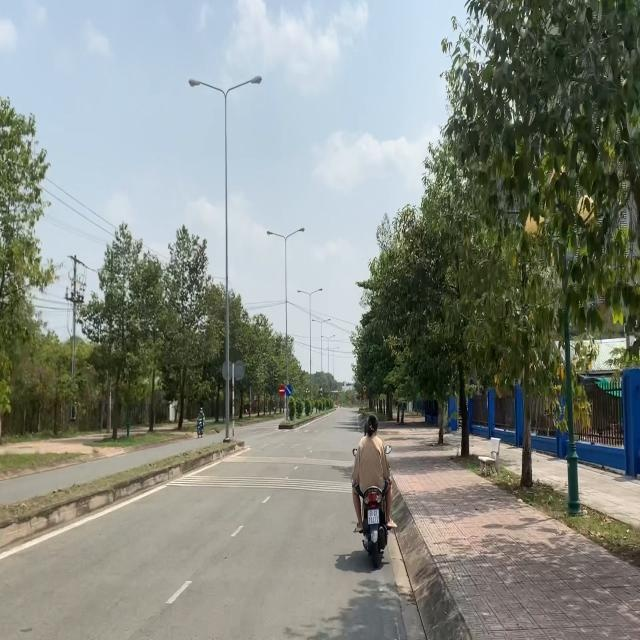bien_cam: (285, 384, 292, 396), (279, 384, 285, 396)
